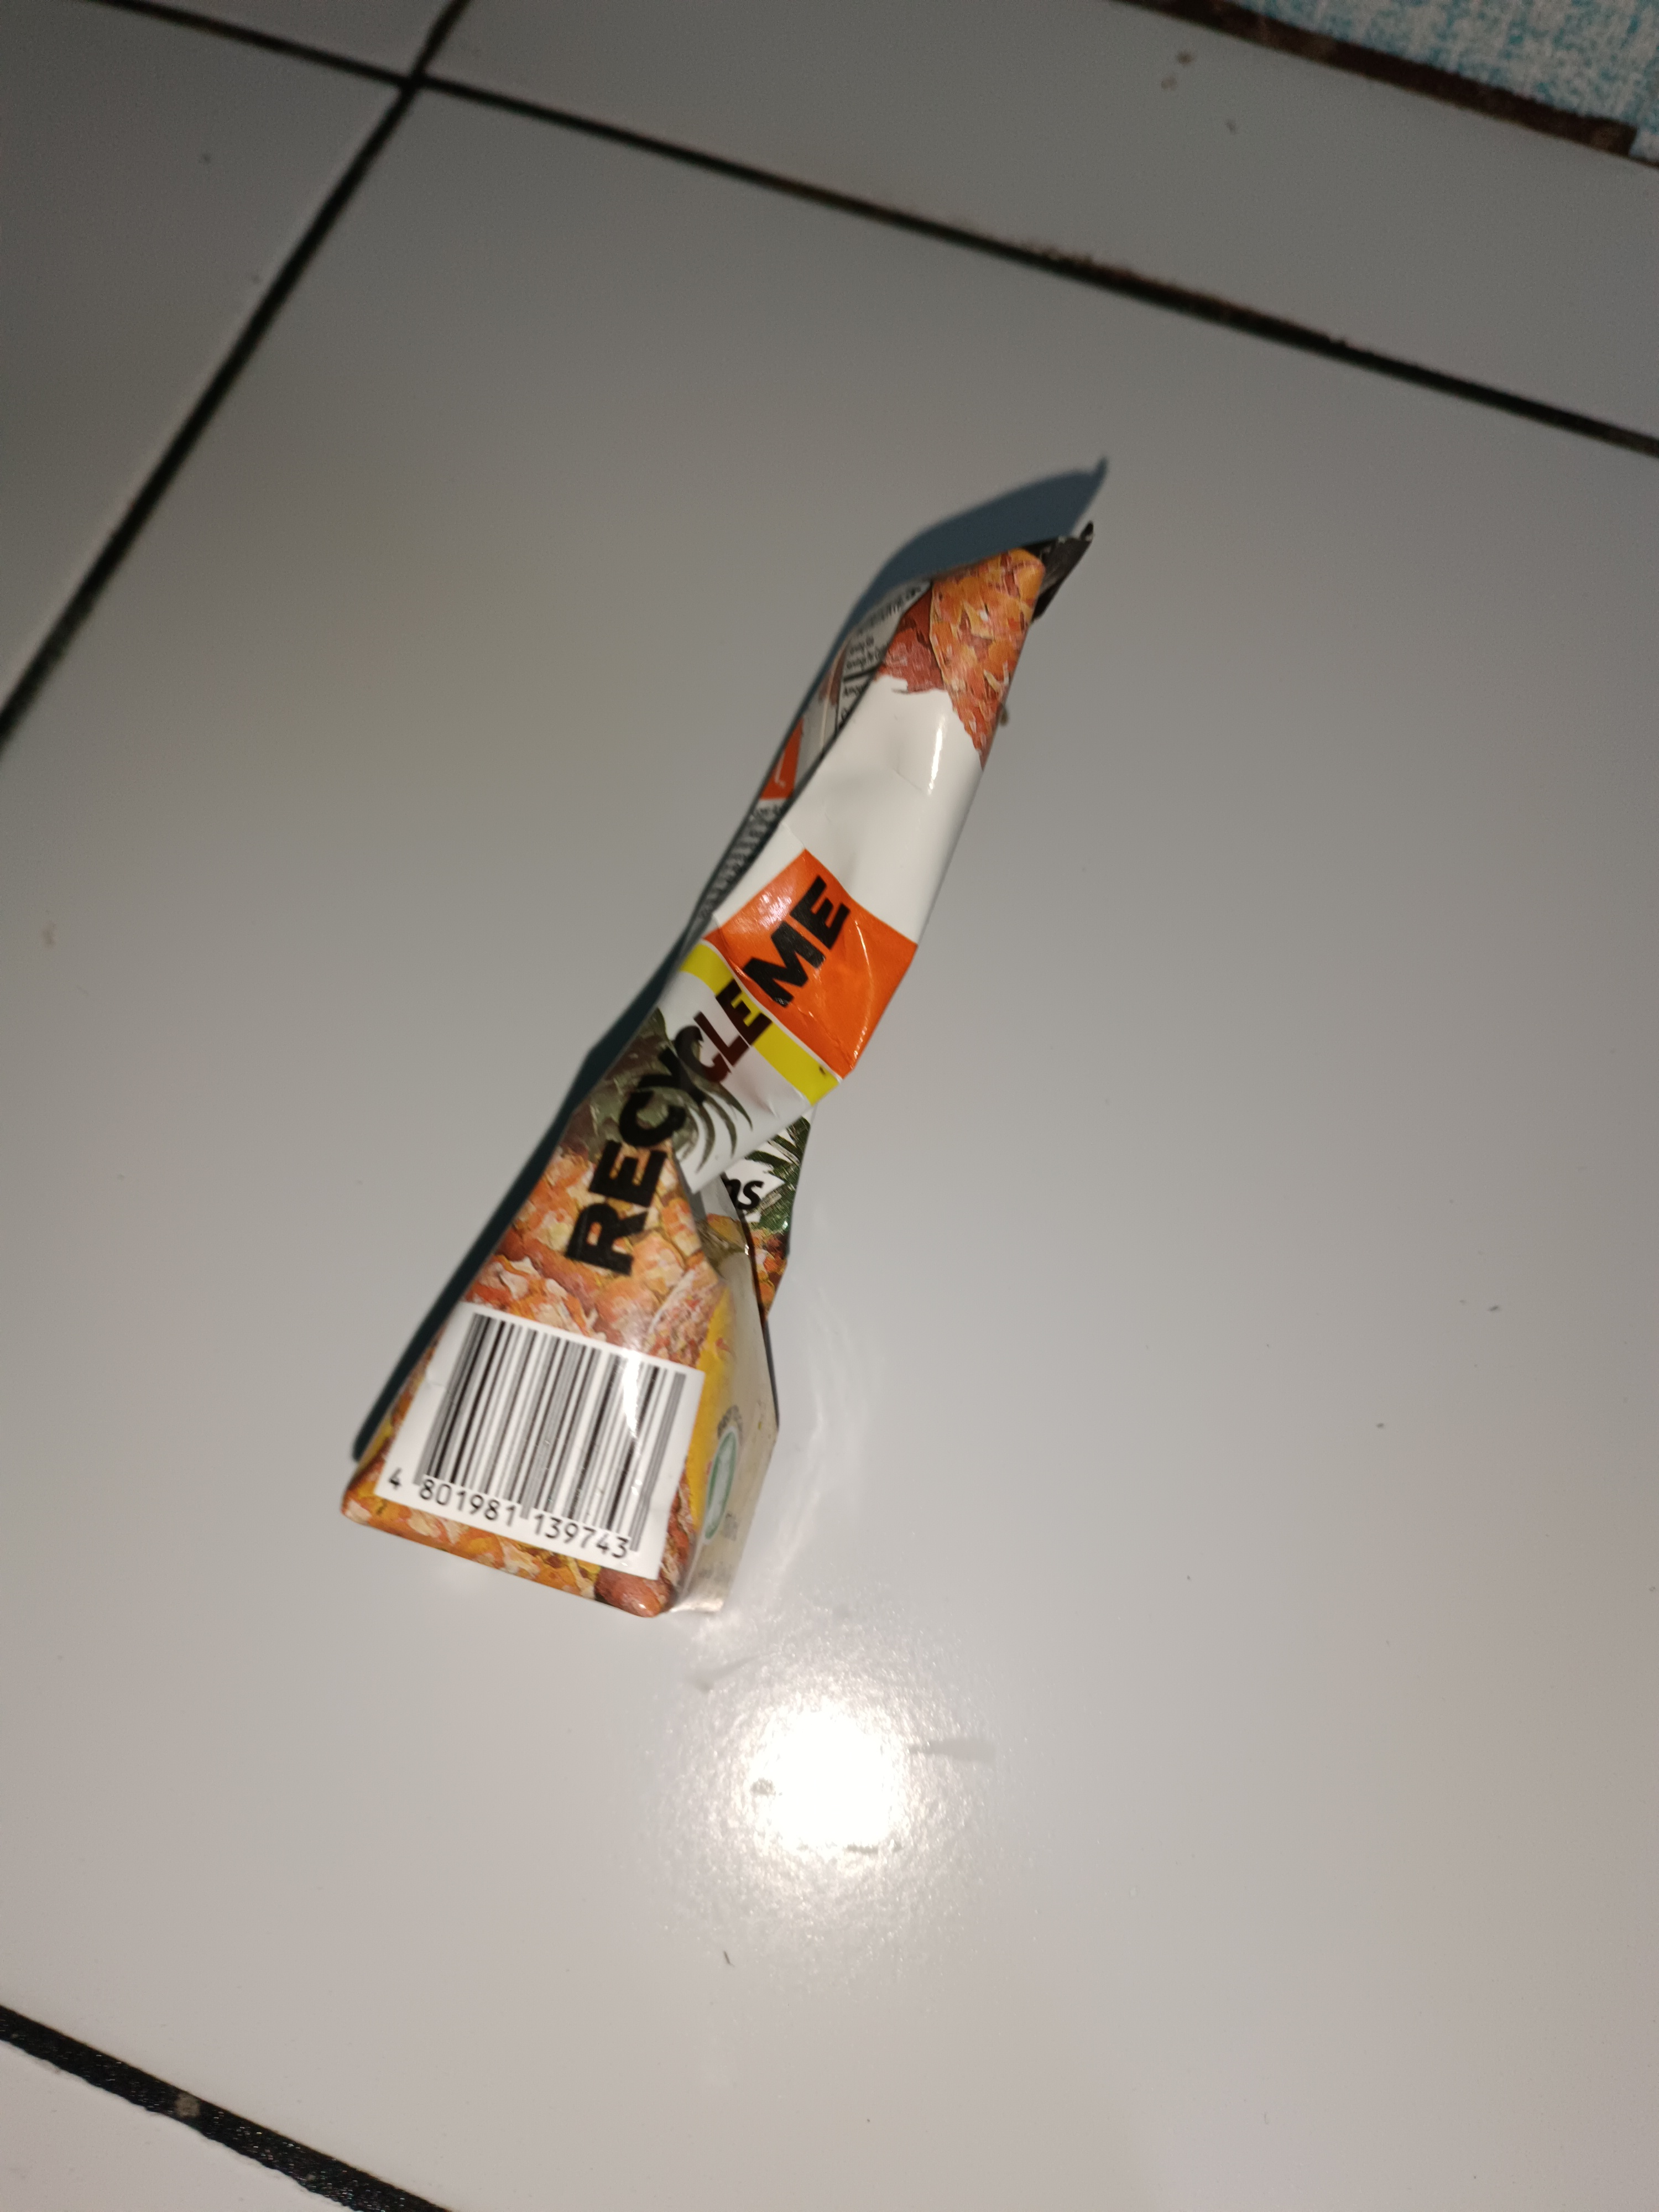Juice Box: (206, 291, 1197, 1747)
